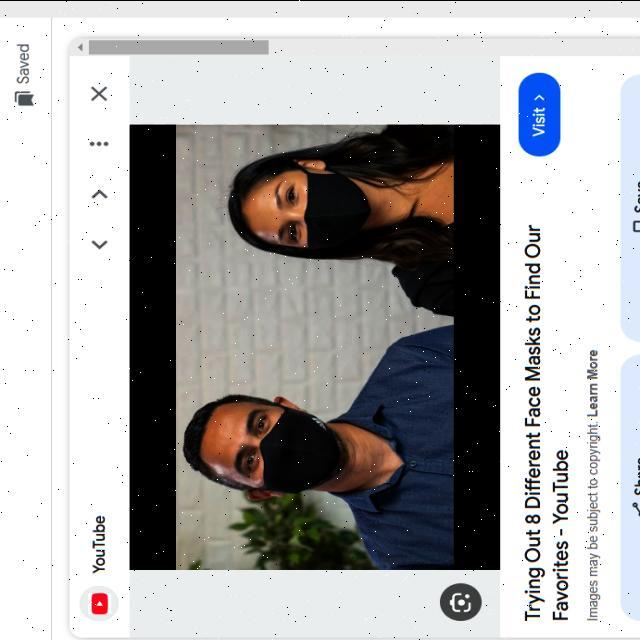face_mask: (192, 395, 333, 498), (249, 157, 371, 252)
